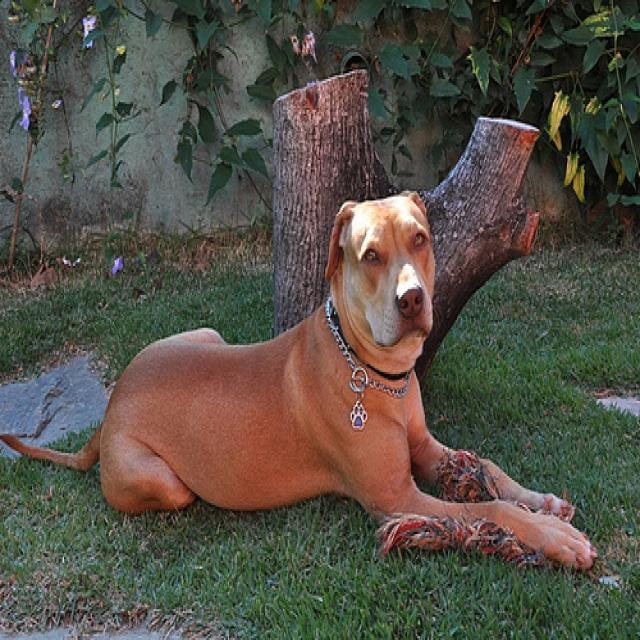dog-american_pit_bull_terrier: (1, 179, 602, 584)
